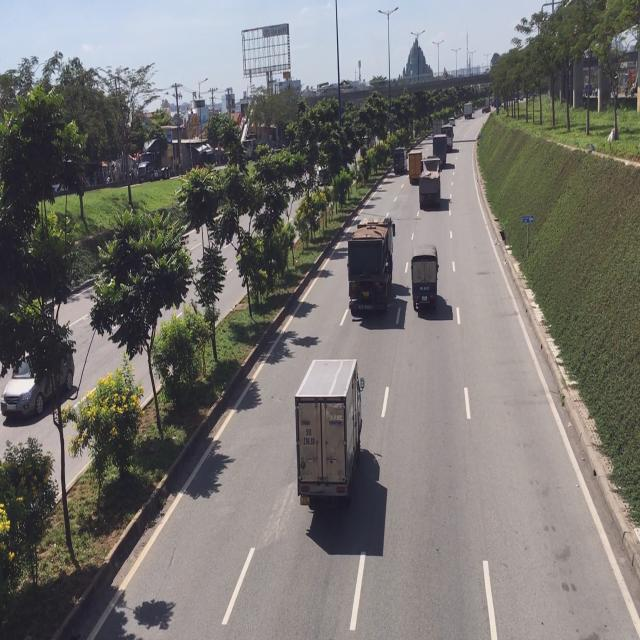truck: (296, 357, 362, 510), (347, 215, 393, 318), (411, 243, 439, 311), (419, 156, 441, 208)
